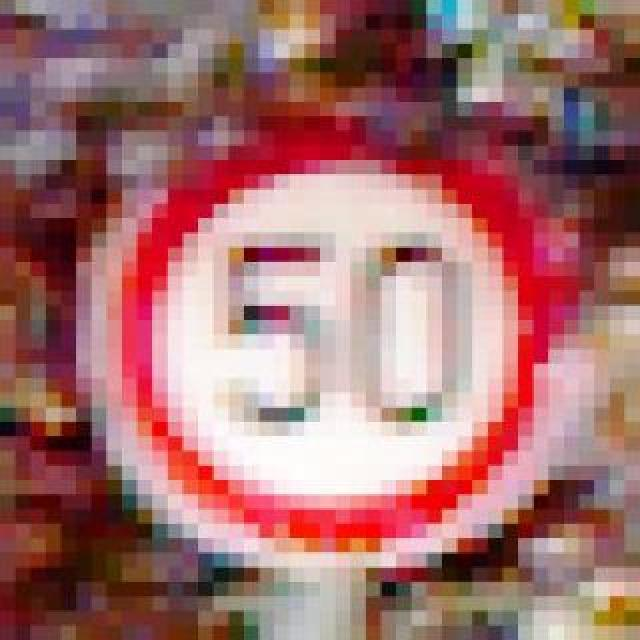50 kph: (76, 102, 548, 554)
